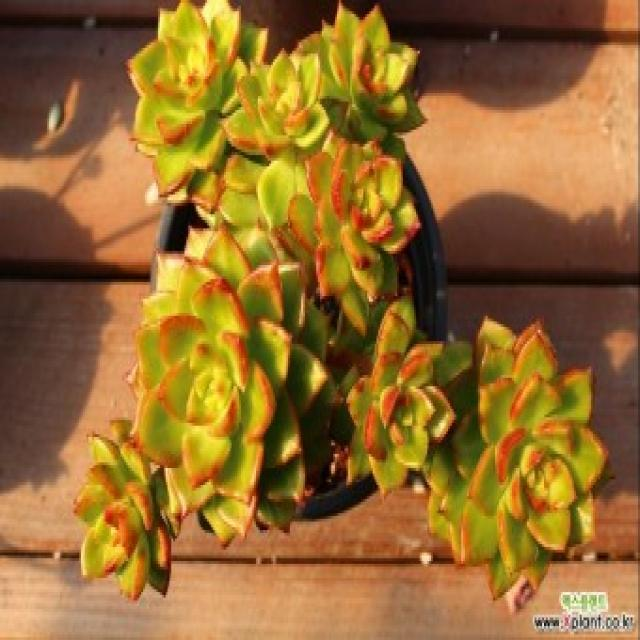Letizia: (131, 225, 329, 544), (425, 318, 608, 596), (289, 135, 420, 334), (348, 298, 472, 494), (224, 51, 330, 158)
